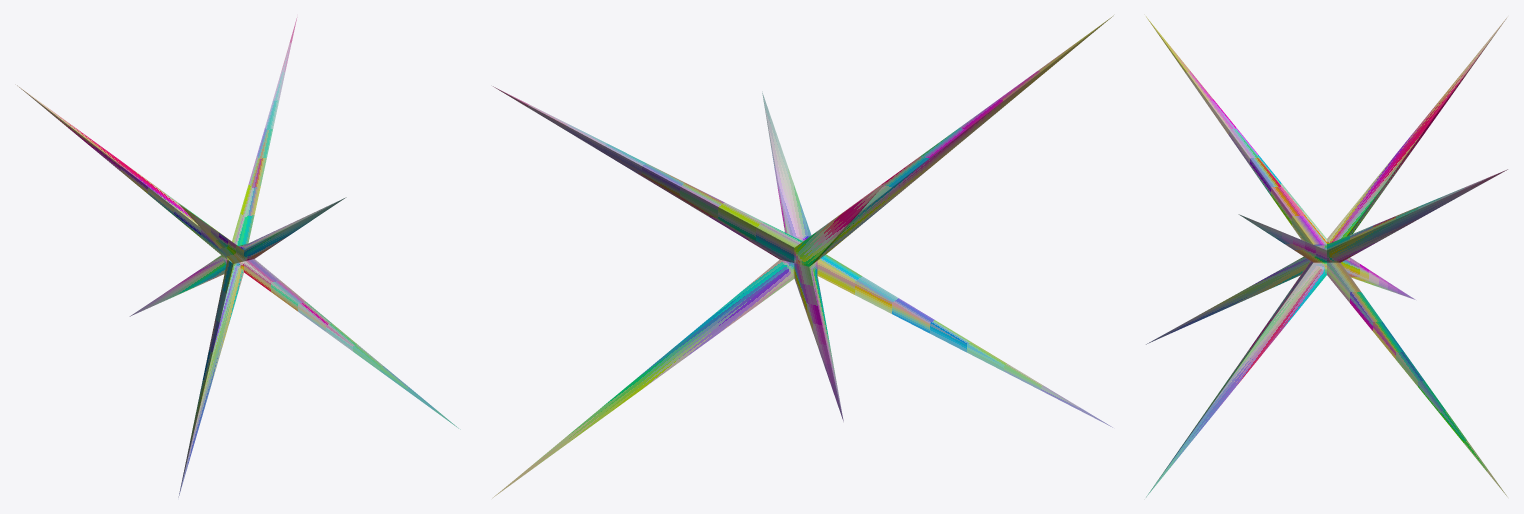
3 views of the same model, side by side, from view 1: azimuth 30°, elevation 25°; view 2: azimuth 150°, elevation 25°; view 3: azimuth 270°, elevation 25° (orthographic). The views are drawn at different scales.
Visible parts, largest first — view 1: Cube; view 2: Cube; view 3: Cube.
Boxes of the visible parts, x1,y1,x2,y2 form: Cube: (15,17,460,497); Cube: (492,15,1113,498); Cube: (1146,16,1507,497).
Bounding box in the file's own units: 4.82 × 4.82 × 4.82.
1 material, 1 textured.
